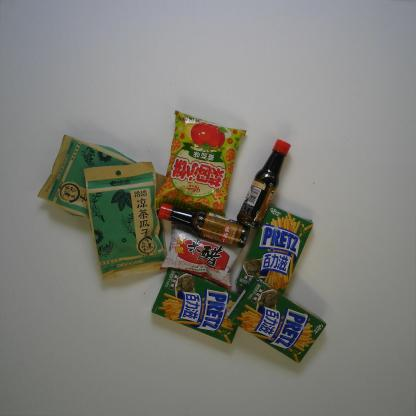Dessert: (226, 275, 328, 365), (233, 203, 314, 294), (150, 267, 240, 345)
Dried Food: (36, 133, 166, 221), (83, 161, 170, 282)
Puffed Food: (154, 108, 249, 217)
Seasoner: (159, 226, 247, 291), (236, 138, 292, 230), (157, 202, 252, 248)
